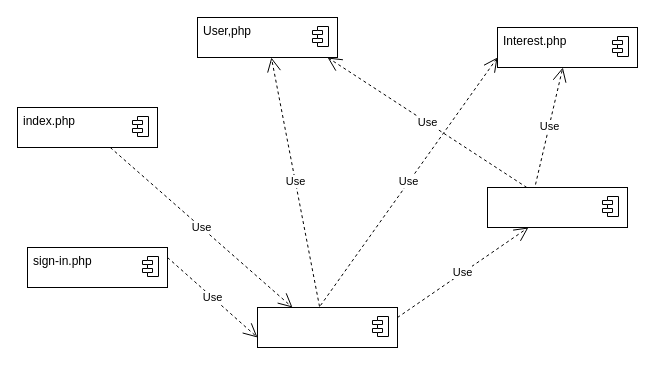
This 655x369 diagram has some shape labels left out. Each missing label, with the centre of its shape:
"UserController.php" belongs at point (327, 327).
"UserMeta.php" belongs at point (557, 207).
